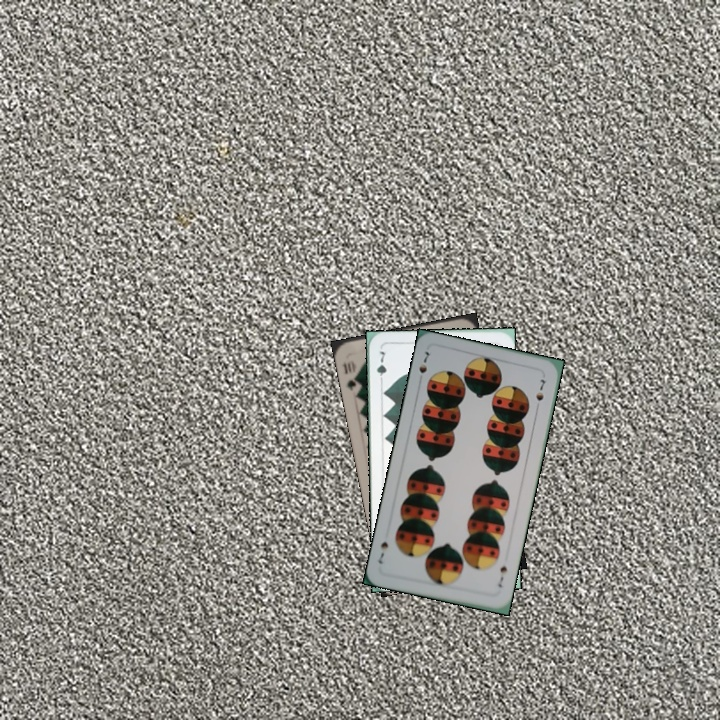G10: (338, 356, 362, 393)
G7: (373, 347, 389, 387)
S7: (414, 347, 432, 386), (494, 562, 510, 590)
